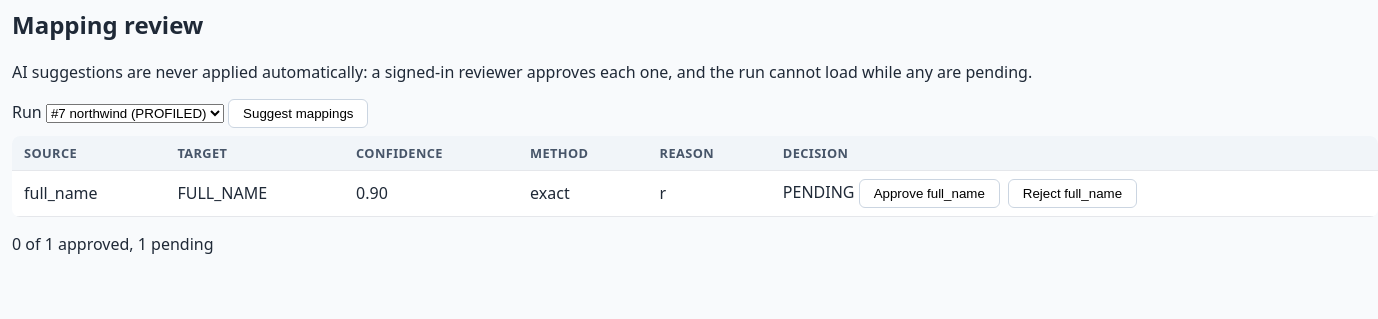
Scenario: MappingReview › shows the orchestrator error when approval is refused
Click the button "Approve full_name".
click(929, 193)  # box [859, 179, 1000, 208]
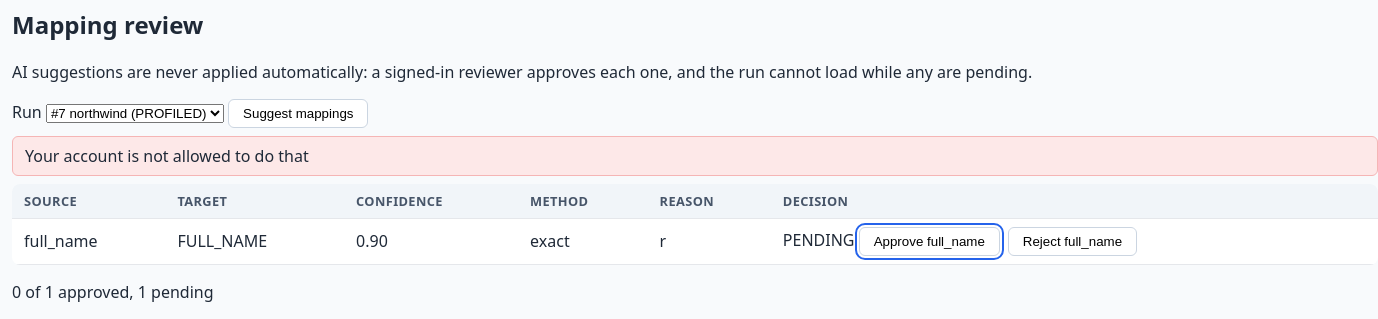
Now the message shows "not allowed", box [25, 145, 309, 167]
